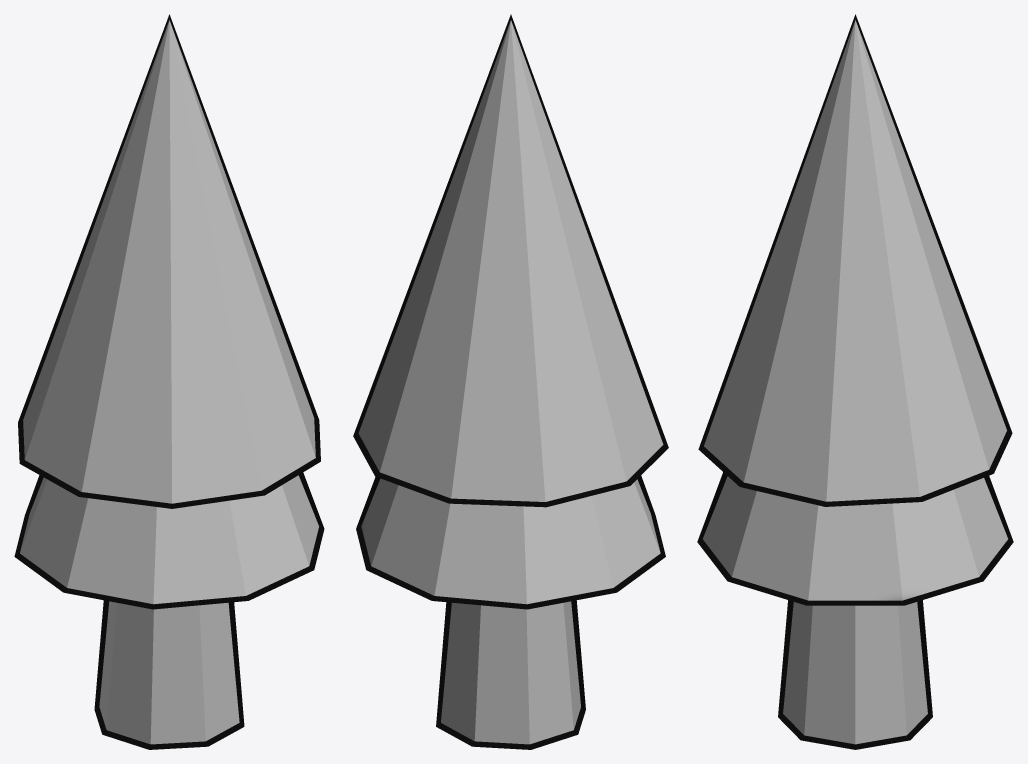
Rendered from simpler treev2.glb.
The picture shows the model from 3 angles, left to right: view 1: azimuth 30°, elevation 25°; view 2: azimuth 150°, elevation 25°; view 3: azimuth 270°, elevation 25°; orthographic projection.
Parts seen in each view (by area): view 1: Cone.001; view 2: Cone.001; view 3: Cone.001.
Boxes of the visible parts, <box> form: Cone.001: <box>14,14,324,749</box>; Cone.001: <box>353,14,668,749</box>; Cone.001: <box>697,14,1013,749</box>.
Size of the model in its own units: 1.96 by 4.9 by 2.
2 materials, 1 textured.
